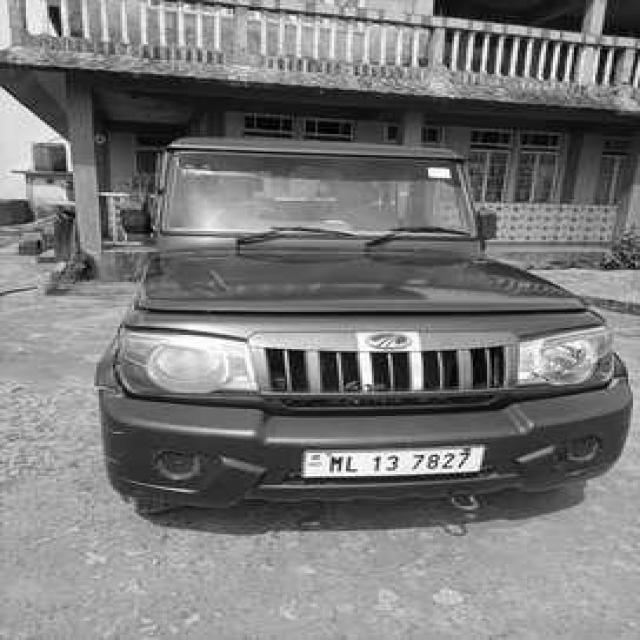car: (87, 132, 635, 510)
license-plate: (299, 444, 485, 480)
